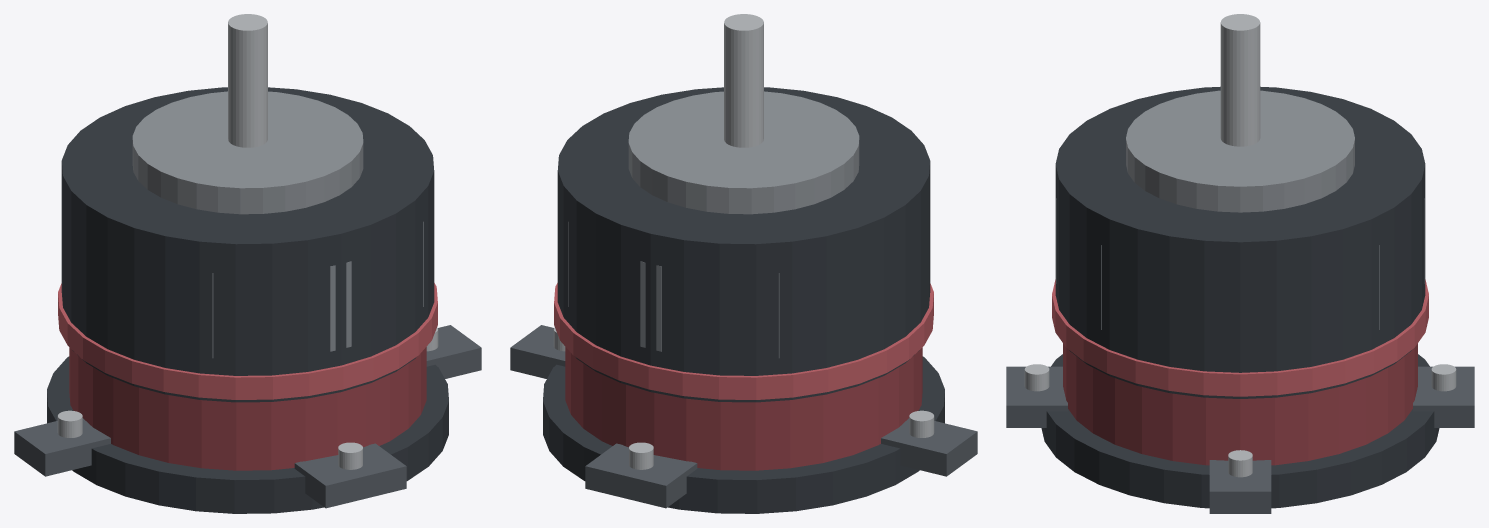
The model's file is motor_5010_360kv.glb.
3 renders of one model, left to right at view 1: azimuth 30°, elevation 25°; view 2: azimuth 150°, elevation 25°; view 3: azimuth 270°, elevation 25°, orthographic.
Visible parts, largest first — view 1: bell, stator, cap, base, accent_ring, shaft, tab_1, tab_2, tab_0, groove_2, screw_2, screw_1; view 2: bell, stator, cap, base, accent_ring, shaft, tab_3, tab_2, tab_0, groove_6, screw_2, screw_3; view 3: bell, stator, cap, base, accent_ring, shaft, tab_0, tab_1, tab_3, screw_1, screw_3, screw_0.
Boxes of the visible parts, <box> form: bell: <box>61,87,434,402</box>; stator: <box>69,347,426,470</box>; cap: <box>132,91,363,214</box>; base: <box>47,356,448,513</box>; accent_ring: <box>58,283,437,399</box>; shaft: <box>228,14,267,147</box>; tab_1: <box>294,443,406,508</box>; tab_2: <box>14,418,110,476</box>; tab_0: <box>426,325,481,378</box>; groove_2: <box>330,261,351,351</box>; screw_2: <box>57,410,82,437</box>; screw_1: <box>338,442,362,469</box>; bell: <box>557,87,930,402</box>; stator: <box>565,347,922,470</box>; cap: <box>628,91,859,214</box>; base: <box>543,356,944,513</box>; accent_ring: <box>554,283,933,399</box>; shaft: <box>724,14,763,147</box>; tab_3: <box>585,443,697,508</box>; tab_2: <box>881,418,977,476</box>; tab_0: <box>510,325,565,378</box>; groove_6: <box>640,261,661,351</box>; screw_2: <box>909,410,934,437</box>; screw_3: <box>629,442,653,469</box>; bell: <box>1055,86,1425,398</box>; stator: <box>1063,343,1417,465</box>; cap: <box>1126,90,1354,212</box>; base: <box>1041,354,1439,508</box>; accent_ring: <box>1052,279,1428,396</box>; shaft: <box>1220,14,1260,146</box>; tab_0: <box>1209,460,1271,513</box>; tab_1: <box>1006,366,1067,427</box>; tab_3: <box>1413,366,1474,427</box>; screw_1: <box>1024,364,1049,391</box>; screw_3: <box>1431,364,1456,391</box>; screw_0: <box>1228,450,1252,477</box>.
Bounding box in the file's own units: 0.081 × 0.0721 × 0.076.
